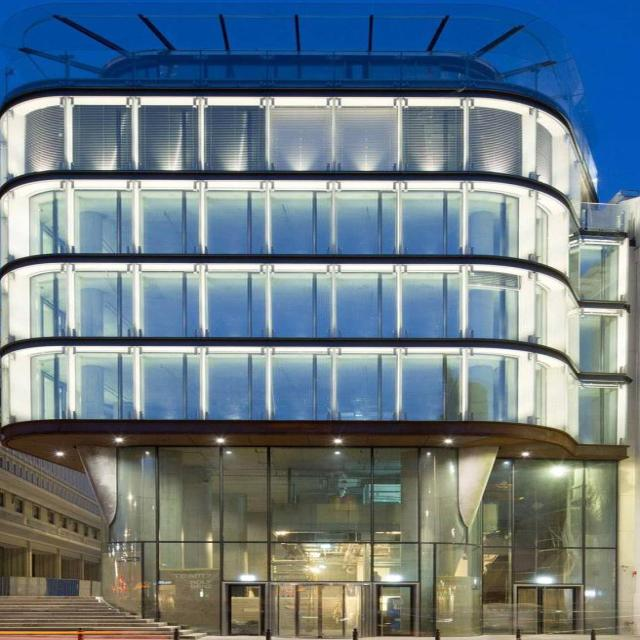Railing: (581, 201, 628, 231)
door: (513, 582, 586, 636), (218, 581, 278, 633), (368, 581, 418, 638)
wall: (0, 4, 635, 636)
windows: (102, 446, 620, 635), (28, 189, 553, 265), (26, 271, 551, 347), (30, 355, 555, 431), (584, 312, 624, 374), (581, 384, 621, 446), (584, 242, 622, 302)
